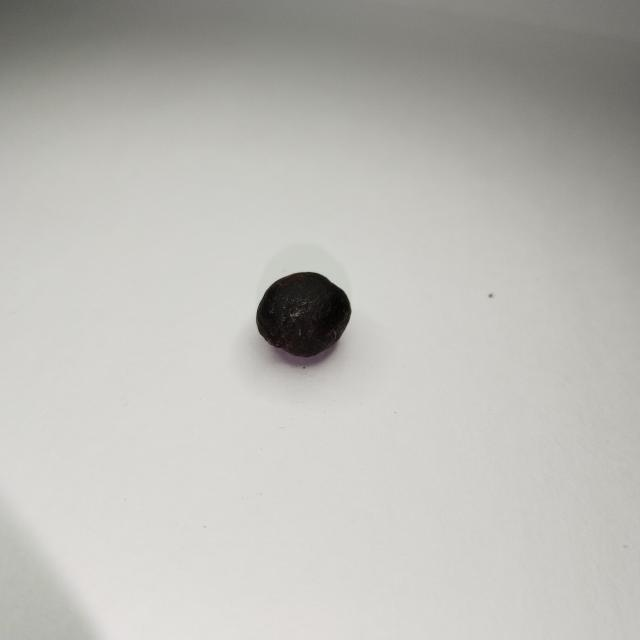Danado: (256, 272, 350, 357)
